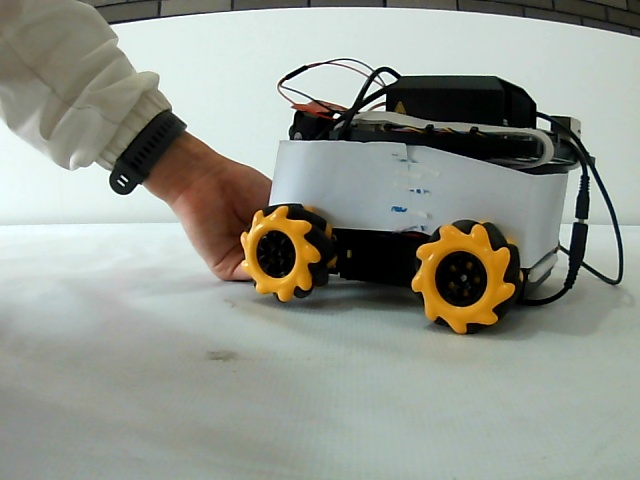car: (233, 71, 595, 333)
paper: (276, 140, 565, 240)
